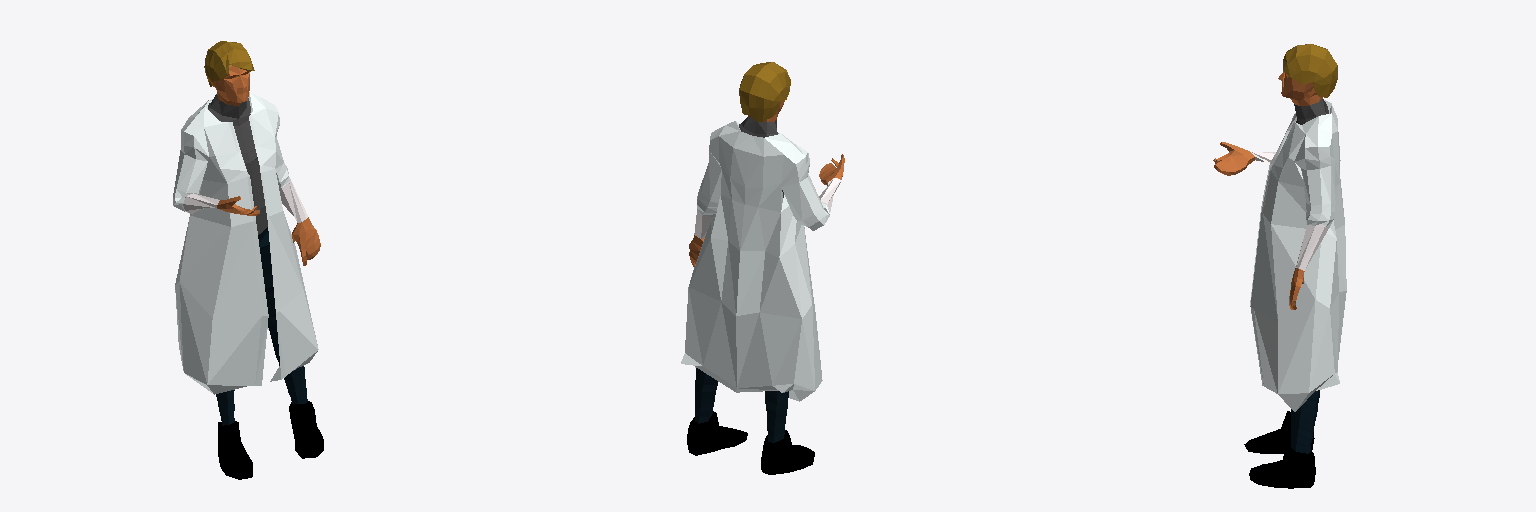
Rendered from me_lab.obj.
3 views of the same model, side by side, from view 1: azimuth 30°, elevation 25°; view 2: azimuth 150°, elevation 25°; view 3: azimuth 270°, elevation 25° (orthographic).
Visible parts, largest first — view 1: male.001_Circle.001, male_Circle.008, male.003_Circle.003, male.004_Circle.004; view 2: male.001_Circle.001, male_Circle.008, male.003_Circle.003, male.004_Circle.004; view 3: male.001_Circle.001, male_Circle.008, male.003_Circle.003, male.004_Circle.004.
Part boxes in pixels (bbox=[...]): male.001_Circle.001: bbox=[173, 92, 318, 394]; male_Circle.008: bbox=[181, 65, 320, 425]; male.003_Circle.003: bbox=[218, 401, 323, 479]; male.004_Circle.004: bbox=[204, 41, 254, 86]; male.001_Circle.001: bbox=[681, 121, 829, 401]; male_Circle.008: bbox=[689, 101, 844, 442]; male.003_Circle.003: bbox=[687, 411, 814, 474]; male.004_Circle.004: bbox=[739, 62, 790, 121]; male.001_Circle.001: bbox=[1250, 100, 1346, 411]; male_Circle.008: bbox=[1213, 71, 1329, 453]; male.003_Circle.003: bbox=[1244, 411, 1315, 488]; male.004_Circle.004: bbox=[1283, 44, 1337, 97].
Bounding box in the file's own units: 1.29 × 3.58 × 1.05.